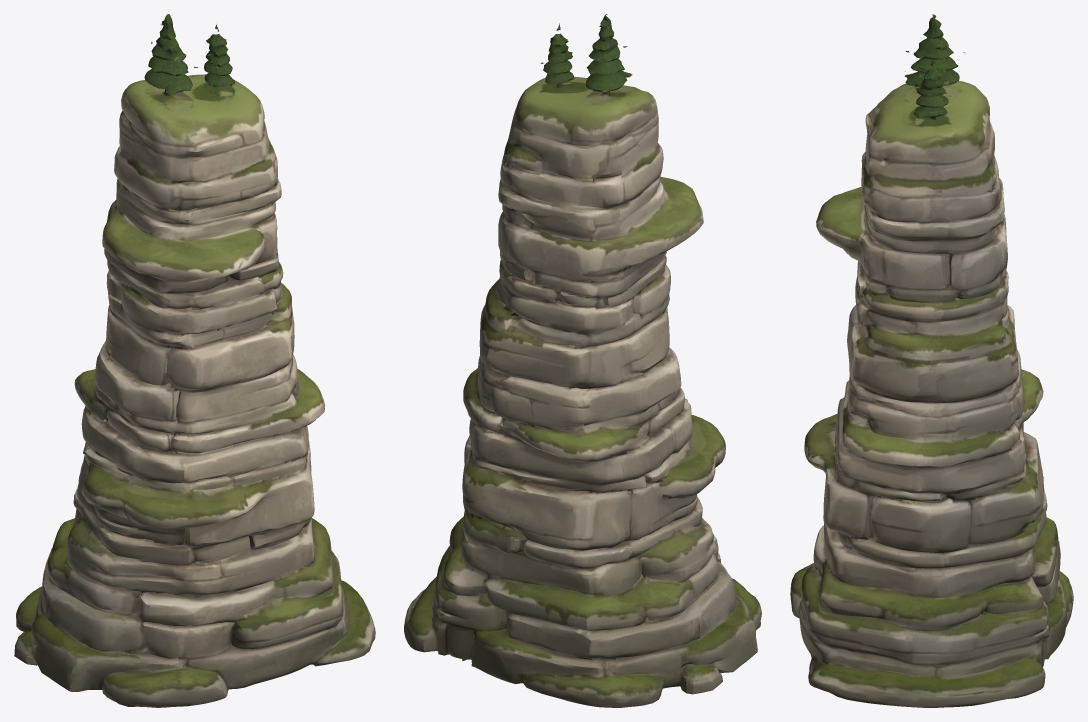
File: cloudreach_strata_spire_tall.glb
3 views of the same model, side by side, from view 1: azimuth 30°, elevation 25°; view 2: azimuth 150°, elevation 25°; view 3: azimuth 270°, elevation 25° (orthographic). The views are drawn at different scales.
Visible parts, largest first — view 1: Mesh_0; view 2: Mesh_0; view 3: Mesh_0.
Part boxes in pixels (bbox=[...]): Mesh_0: bbox=[14, 14, 375, 707]; Mesh_0: bbox=[404, 14, 761, 707]; Mesh_0: bbox=[790, 14, 1073, 707].
Size of the model in its own units: 23.26 by 45 by 18.96.
Materials: 1 (1 with a texture image).
